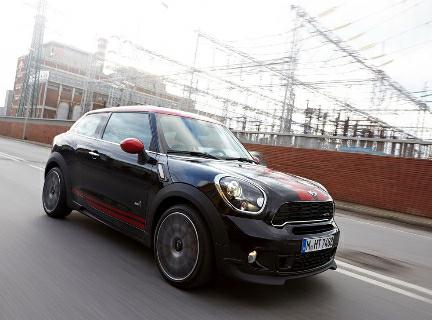MINI-JCWPACEMAN: (48, 105, 335, 292)
